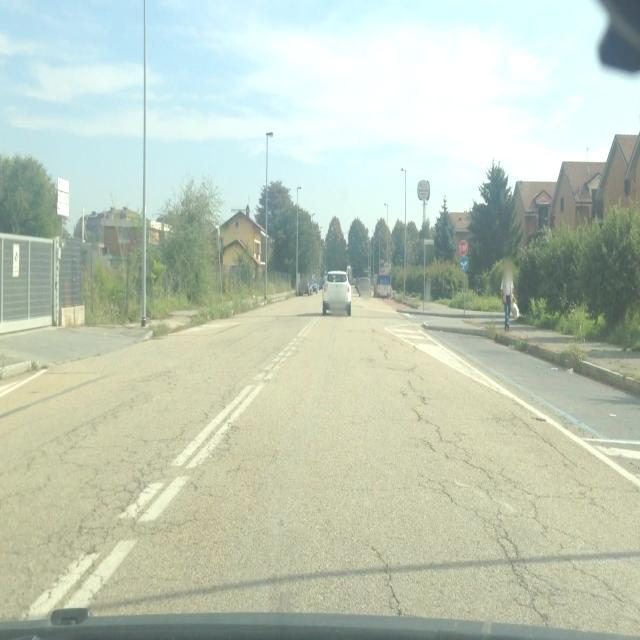car: (322, 270, 352, 316), (296, 280, 310, 298), (309, 280, 318, 294)
